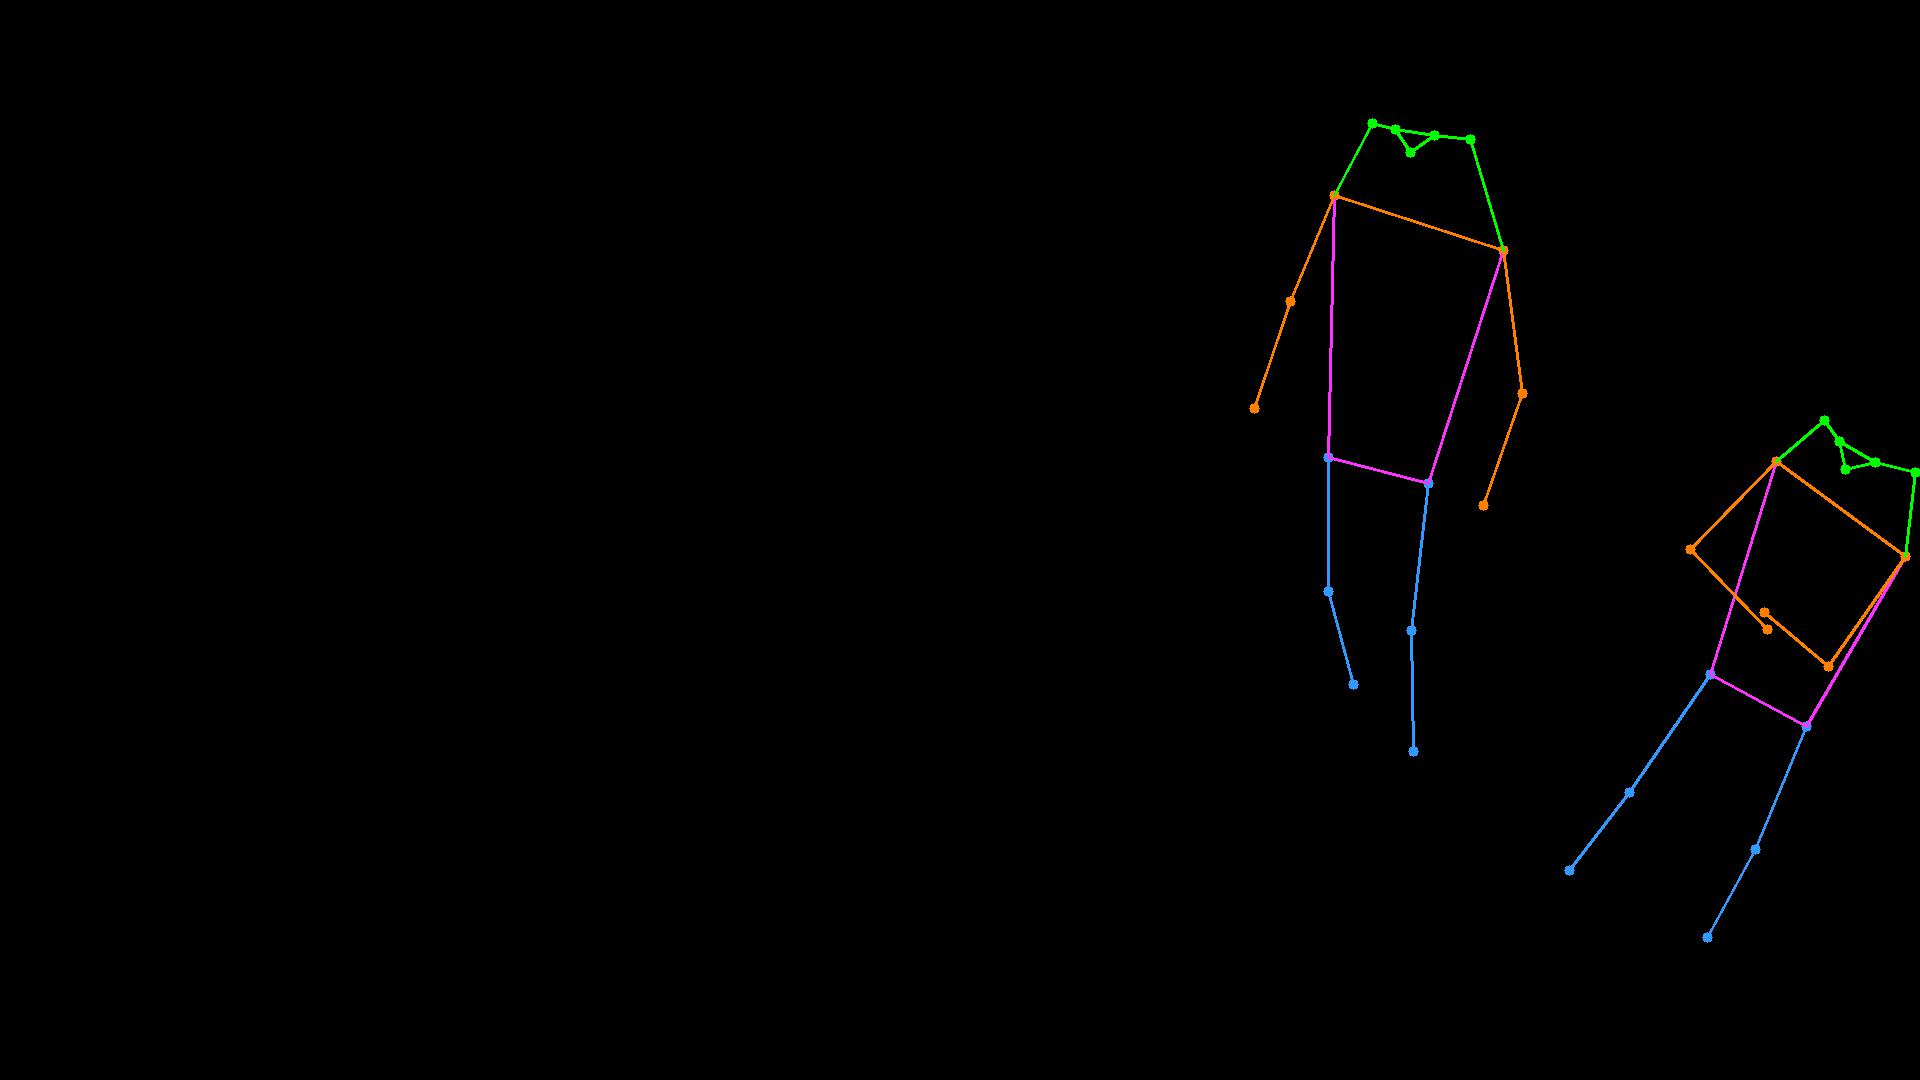normal: (1220, 90, 1552, 789), (1542, 378, 1920, 963)
